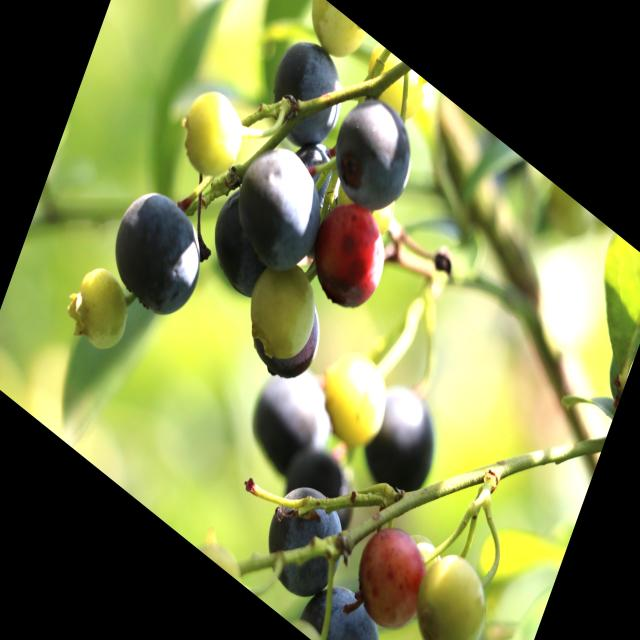blueberry: (220, 126, 339, 298), (99, 169, 217, 338), (319, 76, 427, 237), (238, 341, 346, 502), (253, 464, 358, 621), (256, 15, 357, 169), (352, 366, 453, 519), (246, 268, 336, 404), (199, 177, 289, 312), (274, 423, 368, 552), (294, 560, 396, 640)
blueberry-halfripe: (304, 186, 398, 327), (353, 515, 433, 637)
blueberry-unripe: (404, 530, 502, 640), (243, 248, 326, 373), (318, 338, 398, 460), (173, 76, 252, 196), (61, 255, 140, 369), (355, 37, 430, 132), (304, 0, 369, 73)
